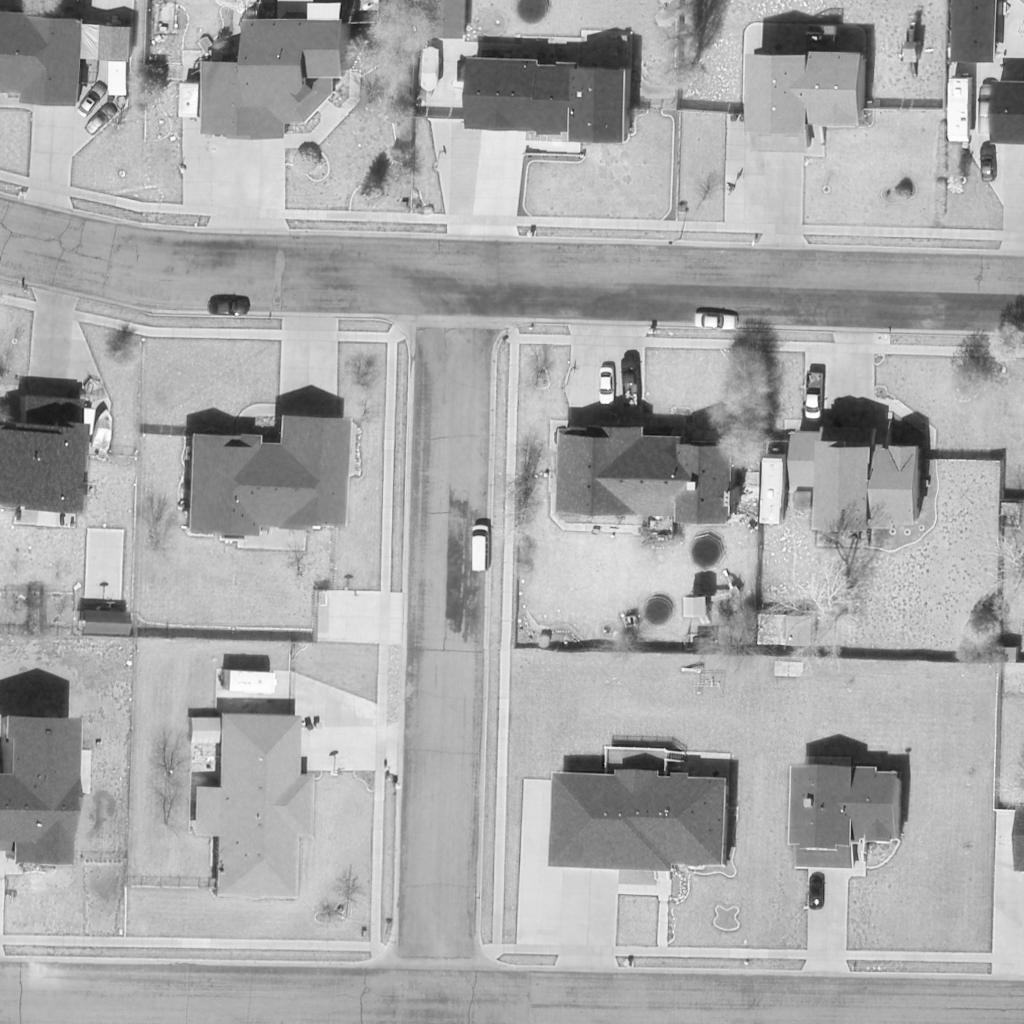vehicle: (758, 458, 790, 524), (948, 79, 972, 143), (90, 406, 116, 456), (73, 80, 107, 118), (801, 371, 825, 423), (225, 670, 275, 694), (84, 103, 116, 137), (621, 359, 641, 411), (418, 48, 440, 94), (472, 526, 492, 574), (978, 84, 998, 132), (595, 368, 619, 406), (206, 297, 252, 315), (177, 84, 199, 120), (694, 312, 738, 330), (108, 60, 126, 98), (807, 873, 825, 909), (981, 145, 997, 185)
